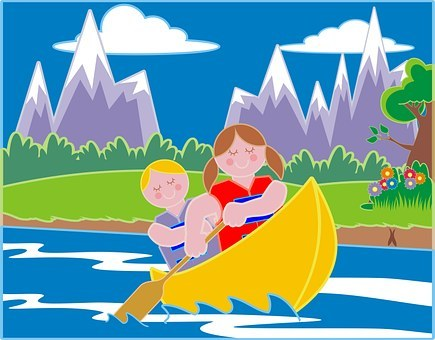boat: (147, 173, 341, 317)
person: (183, 119, 289, 259), (135, 158, 225, 271)
